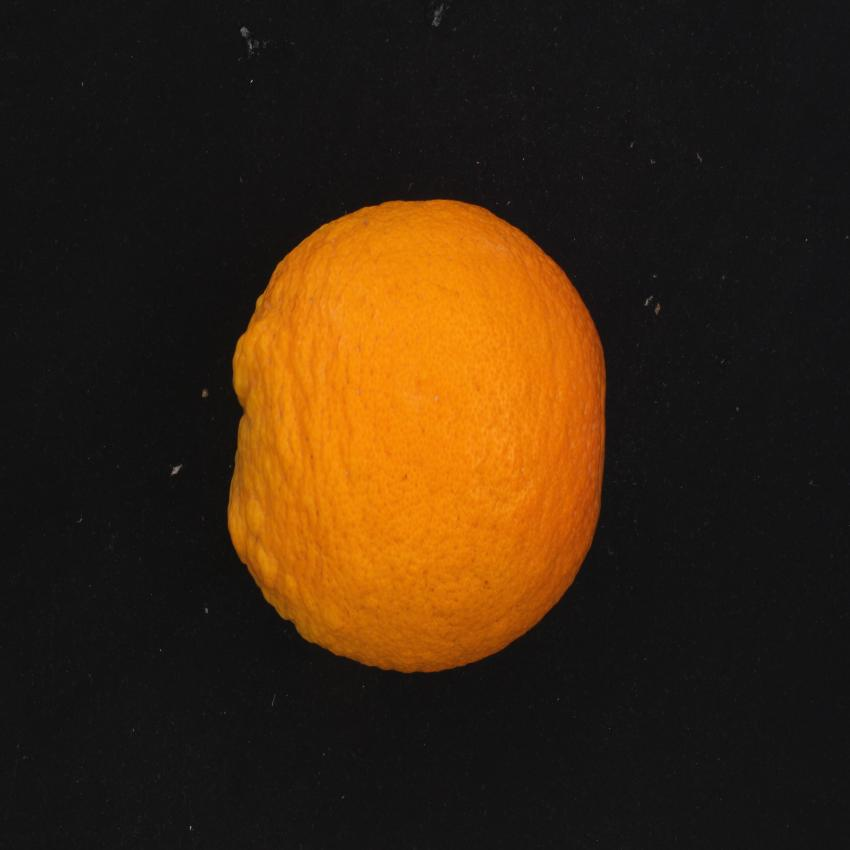Buen estado: (215, 185, 625, 691)
